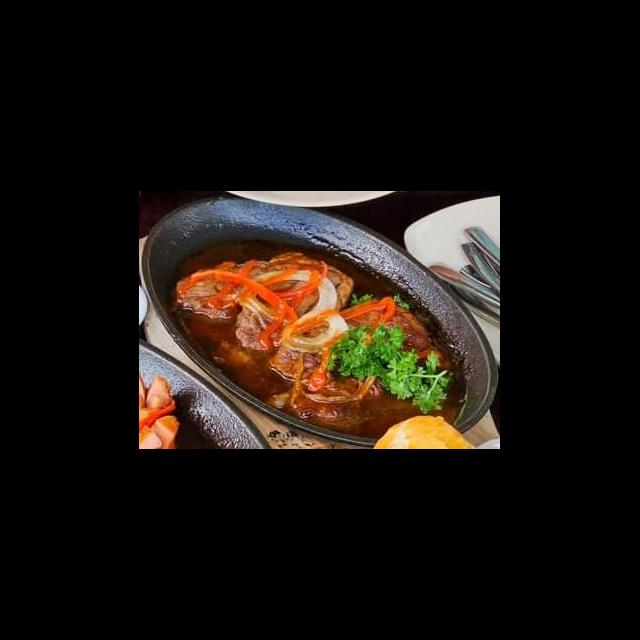thit bo: (262, 296, 453, 404), (173, 248, 360, 354)
